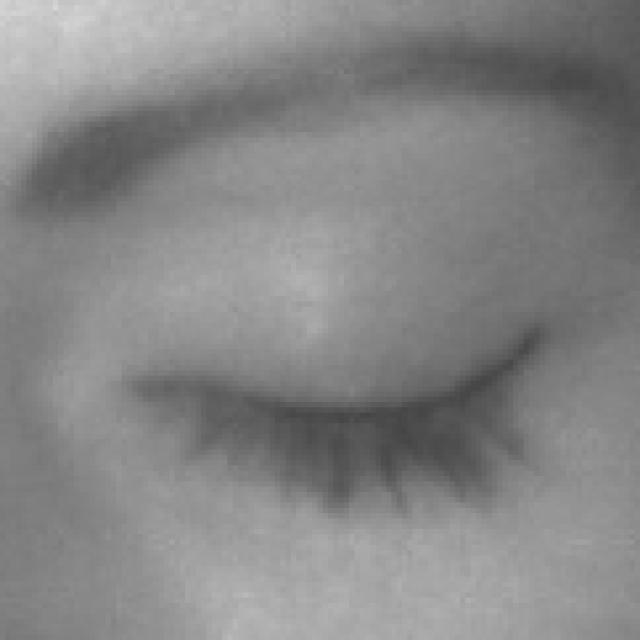close: (0, 25, 640, 585)
